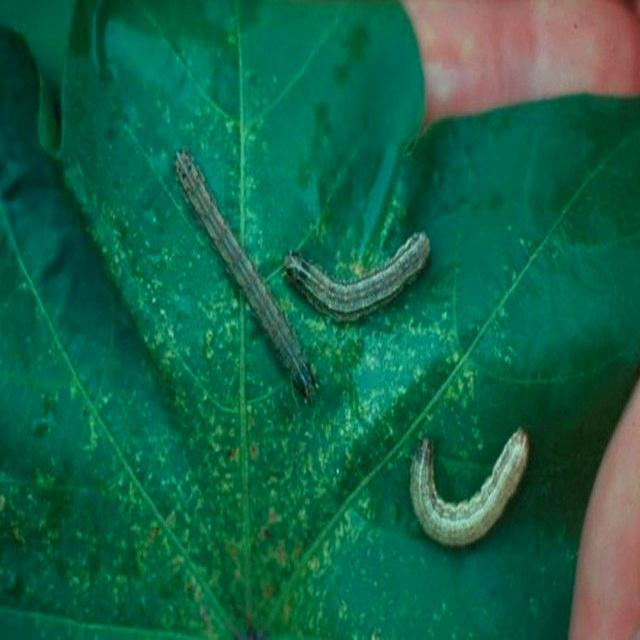gusano_cogollero: (176, 165, 318, 392), (413, 430, 525, 548), (293, 228, 430, 312)
